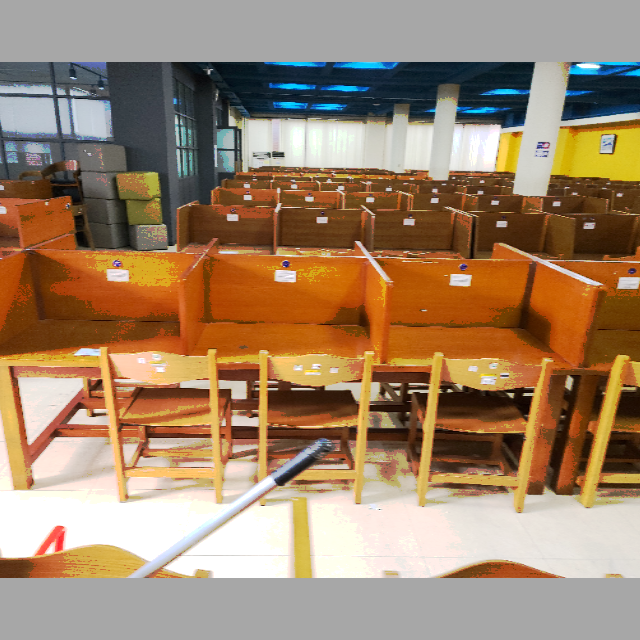empty: (393, 250, 592, 445), (189, 259, 386, 431), (1, 256, 183, 428)
